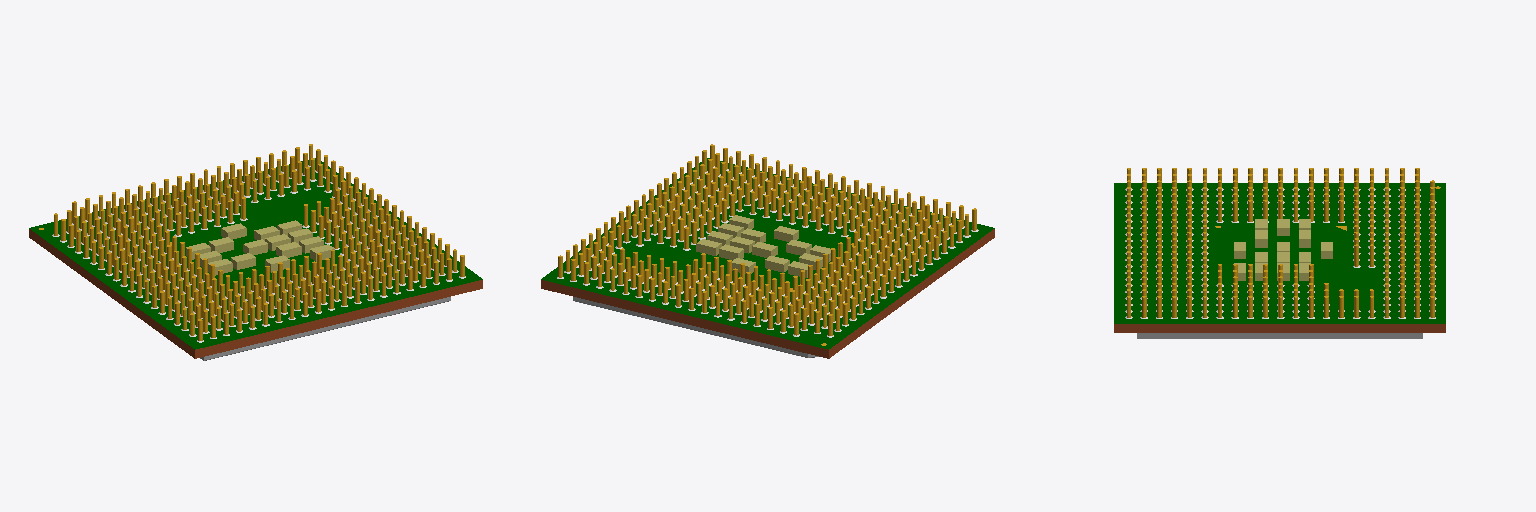
Rendered from cpu2.obj.
3 renders of one model, left to right at view 1: azimuth 30°, elevation 25°; view 2: azimuth 150°, elevation 25°; view 3: azimuth 270°, elevation 25°, orthographic.
Parts seen in each view (by area): view 1: Mesh355 Model; view 2: Mesh355 Model; view 3: Mesh355 Model.
Part boxes in pixels (x1,y1,x2,y2): Mesh355 Model: (29,158,482,360); Mesh355 Model: (541,158,994,358); Mesh355 Model: (1114,183,1445,338).
Size of the model in its own units: 2.42 by 0.3749 by 2.42.